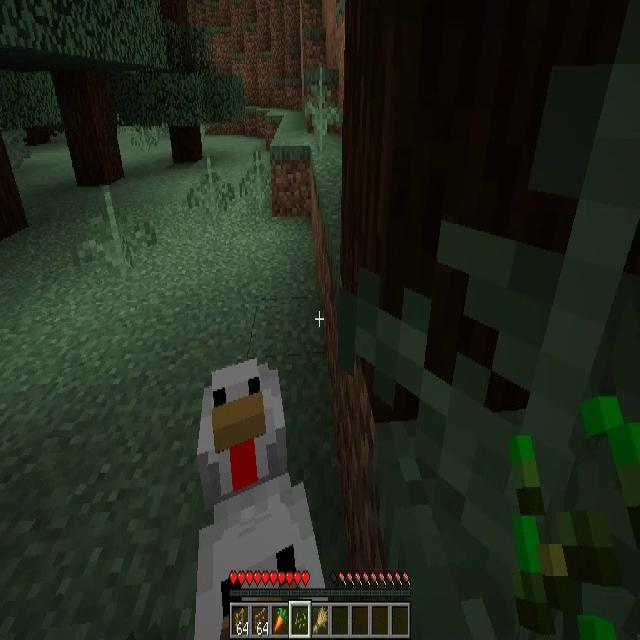duck: (194, 474, 319, 640), (200, 358, 283, 516)
